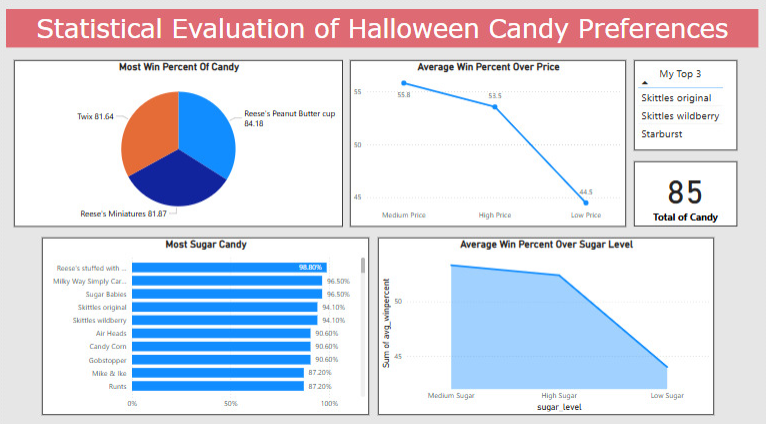

What the dashboard file says about the page in this screenshot:
{"tool":"powerbi","page":{"name":"Page 1","canvas":[1280,720],"ordinal":0},"visuals":[{"type":"textbox","box":[12,16,1254,64],"z":0},{"type":"pieChart","title":"Most Win Percent Of Candy","fields":{"Category":["highest win.competitorname"],"Y":["Sum(highest win.winpercent)"]},"box":[25,101.7,548.3,276.7],"z":1},{"type":"barChart","title":"Most Sugar Candy","fields":{"Y":["Sum(most sugar.sugarpercent)"],"Category":["most sugar.competitorname"]},"box":[71.7,396.7,545,295],"z":2},{"type":"lineChart","title":"Average Win Percent Over Price","fields":{"Y":["Sum(price and popularity.avg_winpercent)"],"Category":["price and popularity.price_range"]},"box":[585,101.7,460,276.7],"z":3},{"type":"areaChart","title":"Average Win Percent Over Sugar Level","fields":{"Y":["Sum(winpercent and sugar level.avg_winpercent)"],"Category":["winpercent and sugar level.sugar_level"]},"box":[631.7,396.7,560,295],"z":4},{"type":"tableEx","fields":{"Values":["my top 3 candy.competitorname"]},"box":[1058.3,101.7,171.7,150],"z":5},{"type":"card","fields":{"Values":["Sum(total candy.Total_Candy)"]},"box":[1058.3,270,171.7,108.3],"z":6}]}

Visuals, with their boxes in screenshot pixels (x1, y1, x2, y2), scaled from the page's 1280x720 canvas onto the 766x424 screenshot:
textbox: bbox(7, 9, 758, 47)
"Most Win Percent Of Candy" pieChart: bbox(15, 60, 343, 223)
"Most Sugar Candy" barChart: bbox(43, 234, 369, 407)
"Average Win Percent Over Price" lineChart: bbox(350, 60, 625, 223)
"Average Win Percent Over Sugar Level" areaChart: bbox(378, 234, 713, 407)
tableEx - my top 3 candy.competitorname: bbox(633, 60, 736, 148)
card - Sum(total candy.Total_Candy): bbox(633, 159, 736, 223)
